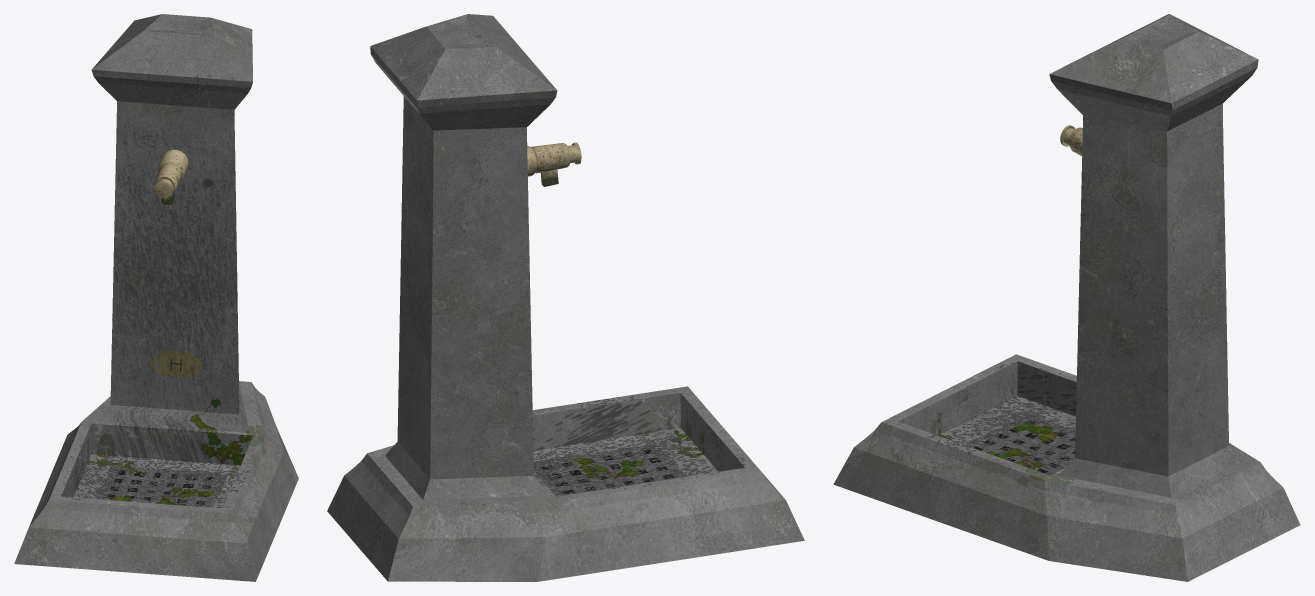
3 views of the same model, side by side, from view 1: azimuth 30°, elevation 25°; view 2: azimuth 150°, elevation 25°; view 3: azimuth 270°, elevation 25° (orthographic). The views are drawn at different scales.
Visible parts, largest first — view 1: tocut; view 2: tocut; view 3: tocut.
Part boxes in pixels (<box>): tocut: <box>14,14,298,581</box>; tocut: <box>327,14,804,581</box>; tocut: <box>833,14,1300,581</box>.
Bounding box in the file's own units: 157 × 191 × 165.
1 material, 1 textured.
